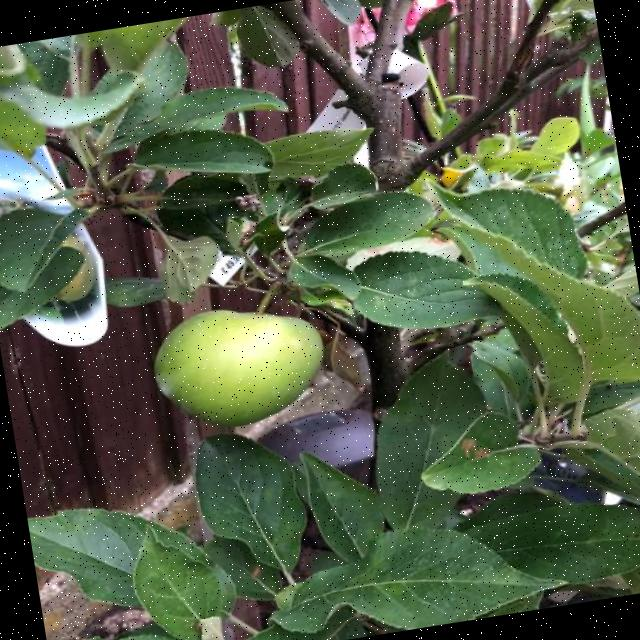Unripe: (140, 291, 334, 438)
